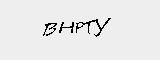В: (42, 21, 58, 37)
Н: (59, 20, 75, 35)
Р: (74, 19, 85, 36)
Т: (83, 19, 95, 36)
У: (94, 17, 111, 37)
